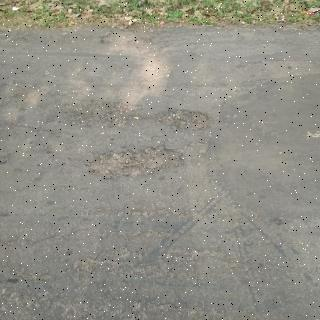pothole: (88, 145, 184, 180), (158, 110, 206, 128)
